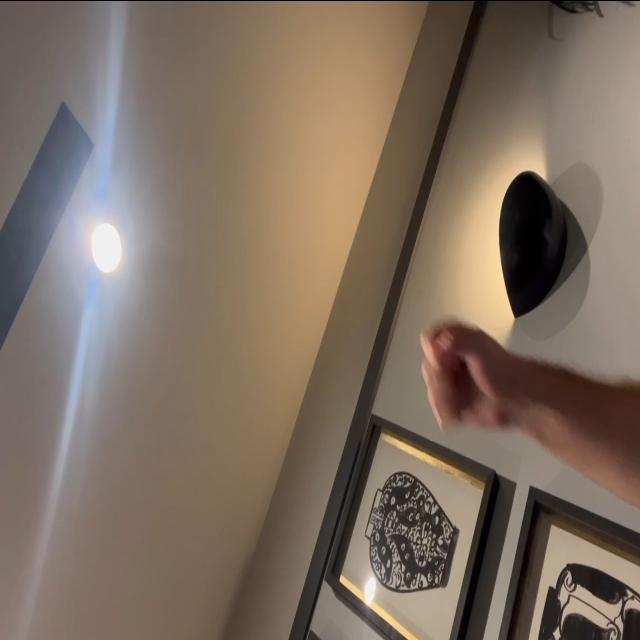Rock: (419, 316, 505, 432)
